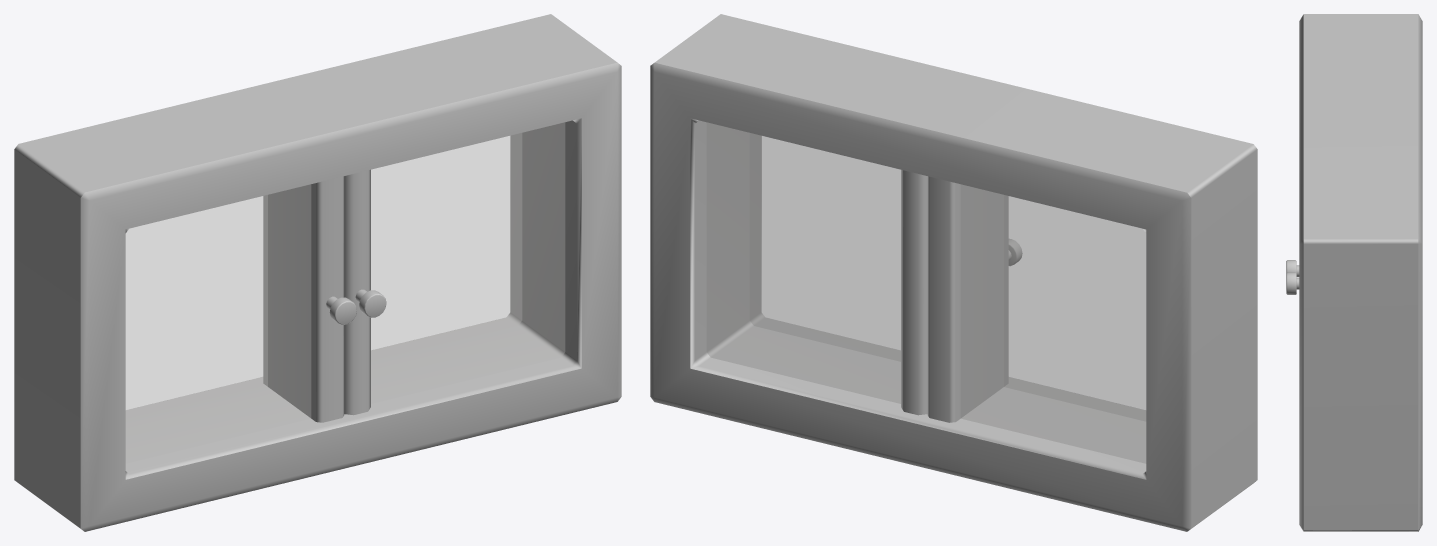
The model's file is Window_24.fbx.
3 renders of one model, left to right at view 1: azimuth 30°, elevation 25°; view 2: azimuth 150°, elevation 25°; view 3: azimuth 270°, elevation 25°, orthographic. The views are drawn at different scales.
Visible parts, largest first — view 1: Window_24; view 2: Window_24; view 3: Window_24.
Part boxes in pixels (x1,y1,x2,y2): Window_24: (14,14,621,531); Window_24: (650,14,1257,531); Window_24: (1286,14,1422,531).
Bounding box in the file's own units: 201 × 120 × 50.65.
